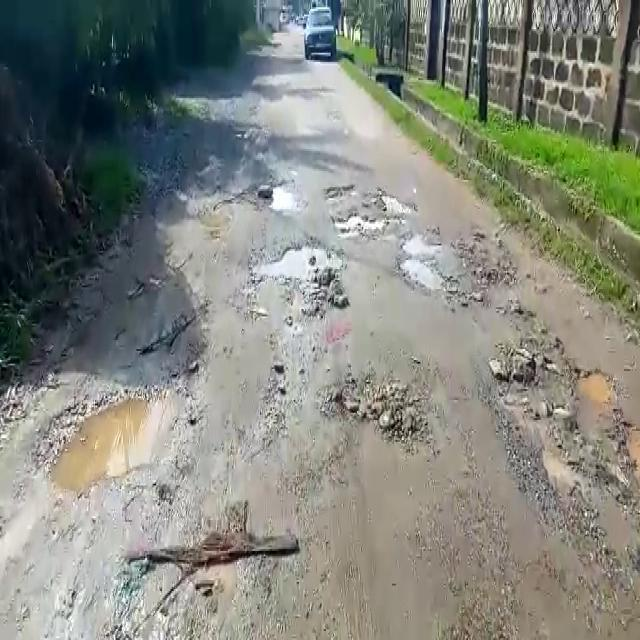pothole: (44, 386, 186, 501), (247, 241, 348, 282), (327, 210, 400, 238), (575, 362, 615, 409), (399, 255, 448, 290), (256, 180, 298, 213), (401, 224, 445, 252), (622, 428, 640, 486), (377, 195, 414, 218), (319, 181, 358, 198)
